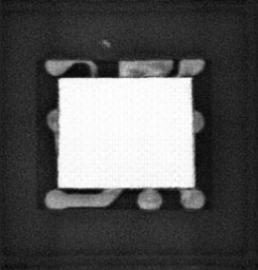DIE_INK: (100, 37, 112, 47)
